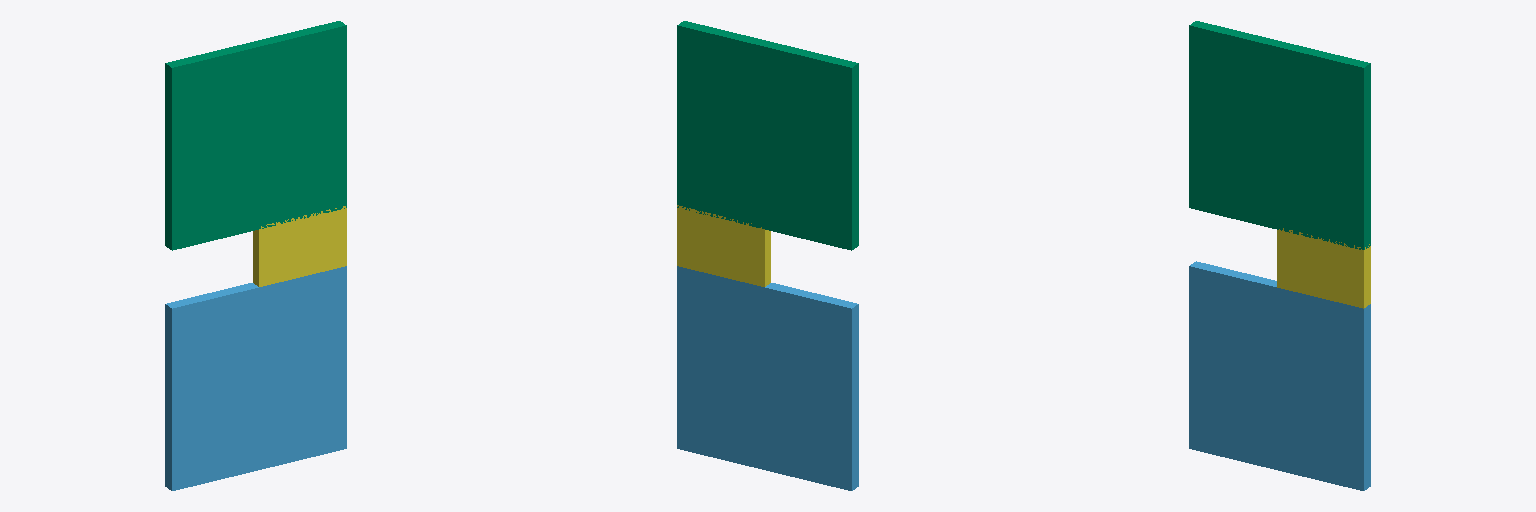
URDF robot description (tunnel):
<robot name="tunnel">
  <link name="world"/>
  <link name="bottom_wall">
    <visual>
      <geometry>
        <box size="0.3 0.02 0.3"/>
      </geometry>
      <origin xyz="0.1625 -0.0375 0.1075" rpy="0 0 0"/>
    </visual>
    <collision>
    <origin xyz="0.1625 -0.0375 0.1075" rpy="0 0 0"/>
      <geometry>
        <box size="0.3 0.02 0.3"/>
      </geometry>
    </collision>
  </link>
  <joint name="bottom_wall_joint" type="fixed">
    <parent link="world"/>
    <child link="bottom_wall"/>
    <origin xyz="0.1625 -0.0375 0.1075" rpy="0 0 0"/>
  </joint>
  <link name="top_wall">
    <visual>
      <geometry>
        <box size="0.3 0.02 0.3"/>
      </geometry>
      <origin xyz="0.1625 -0.0375 0.305" rpy="0 0 0"/>
    </visual>
    <collision>
    <origin xyz="0.1625 -0.0375 0.305" rpy="0 0 0"/>
      <geometry>
        <box size="0.3 0.02 0.3"/>
      </geometry>
    </collision>
  </link>
  <joint name="top_wall_joint" type="fixed">
    <parent link="world"/>
    <child link="top_wall"/>
    <origin xyz="0.1625 -0.0375 0.305" rpy="0 0 0"/>
  </joint>
  <link name="middle_wall">
    <visual>
      <geometry>
        <box size="0.15 0.02 0.1"/>
      </geometry>
      <origin xyz="0.2 -0.0375 0.2075" rpy="0 0 0"/>
    </visual>
    <collision>
    <origin xyz="0.2 -0.0375 0.2075" rpy="0 0 0"/>
      <geometry>
        <box size="0.15 0.02 0.1"/>
      </geometry>
    </collision>
  </link>
  <joint name="middle_wall_joint" type="fixed">
    <parent link="world"/>
    <child link="middle_wall"/>
    <origin xyz="0.2 -0.0375 0.2075" rpy="0 0 0"/>
  </joint>
</robot>

--- What the picture shows (computed from the rendered views, not written in the file) ---
The picture shows the robot from 3 angles, left to right: view 1: azimuth 30°, elevation 25°; view 2: azimuth 150°, elevation 25°; view 3: azimuth 330°, elevation 25°; orthographic projection.
Model tunnel with 4 links and 3 joints (3 fixed), rooted at world, posed all joints at 0.
Visible links, largest first — view 1: top_wall, bottom_wall, middle_wall; view 2: top_wall, bottom_wall, middle_wall; view 3: top_wall, bottom_wall, middle_wall.
Boxes of the visible links, x1=… form: top_wall: x1=165, y1=21, x2=346, y2=250; bottom_wall: x1=165, y1=266, x2=346, y2=490; middle_wall: x1=253, y1=206, x2=346, y2=286; top_wall: x1=677, y1=21, x2=858, y2=250; bottom_wall: x1=677, y1=266, x2=858, y2=490; middle_wall: x1=677, y1=205, x2=770, y2=286; top_wall: x1=1189, y1=21, x2=1370, y2=249; bottom_wall: x1=1189, y1=261, x2=1370, y2=490; middle_wall: x1=1277, y1=228, x2=1370, y2=308.
Size in the robot's own frame: 0.3 by 0.02 by 0.695 metres.
Geometry: primitives only (box / cylinder / sphere), no mesh files.